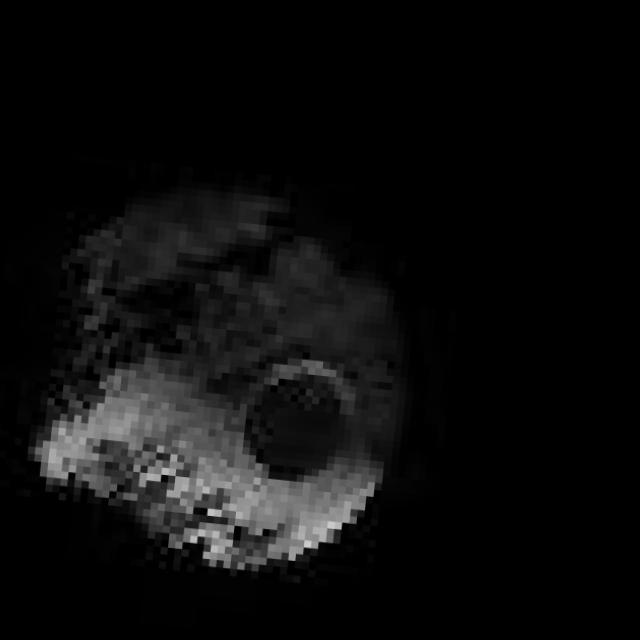Death Star: (2, 157, 433, 598)
